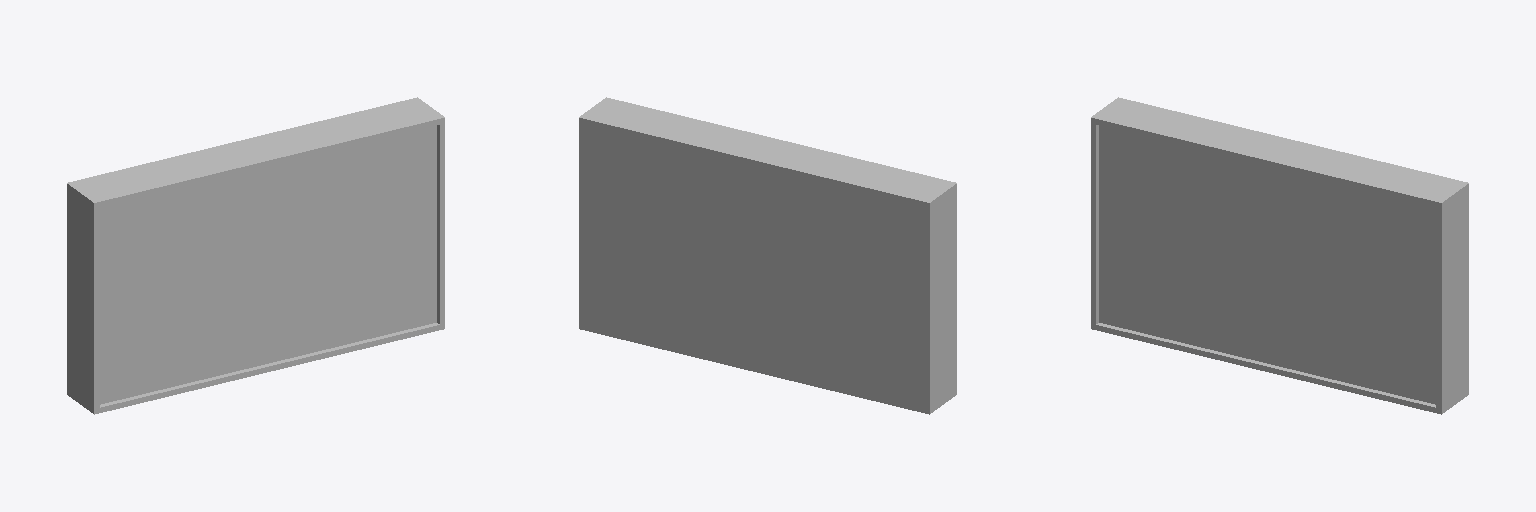
File: Desk Screen.obj
3 views of the same model, side by side, from view 1: azimuth 30°, elevation 25°; view 2: azimuth 150°, elevation 25°; view 3: azimuth 330°, elevation 25° (orthographic).
Parts seen in each view (by area): view 1: ObjObject.001; view 2: ObjObject.001; view 3: ObjObject.001.
Part boxes in pixels (x1,y1,x2,y2): ObjObject.001: (67, 97, 444, 414); ObjObject.001: (579, 97, 956, 414); ObjObject.001: (1091, 97, 1468, 414).
Bounding box in the file's own units: 6.6 × 3.8 × 0.9.